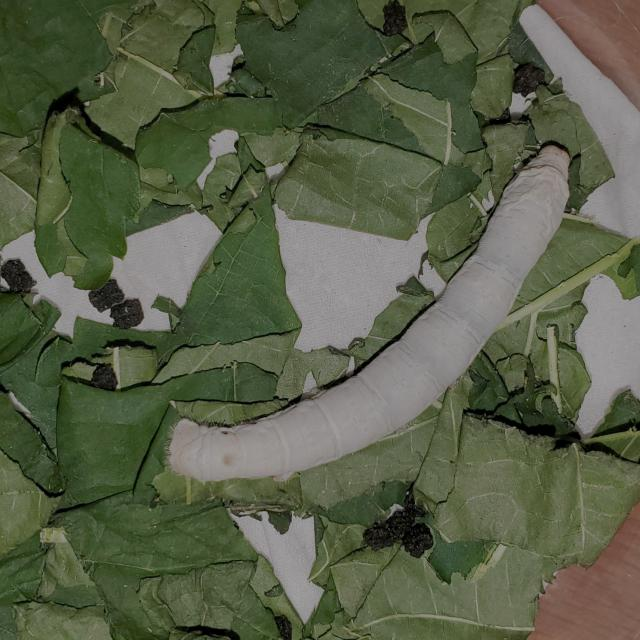Healthy: (157, 108, 594, 534)
